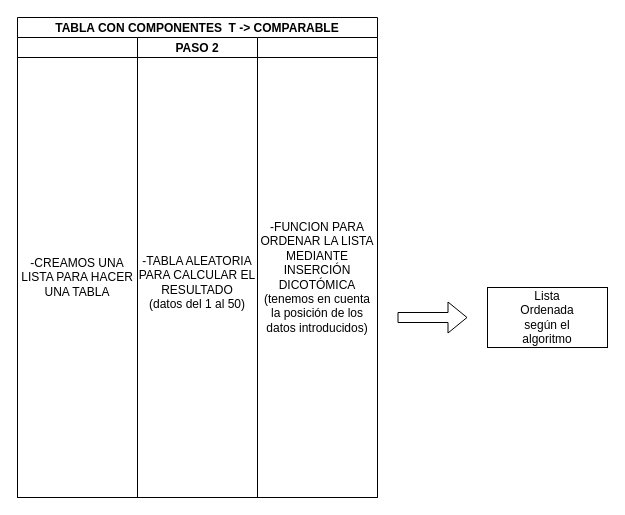
This 625x515 diagram has some shape labels left out. Each missing label, with the box of its shape:
PASO 1: (16, 36, 138, 498)
PASO 3: (256, 36, 378, 498)
